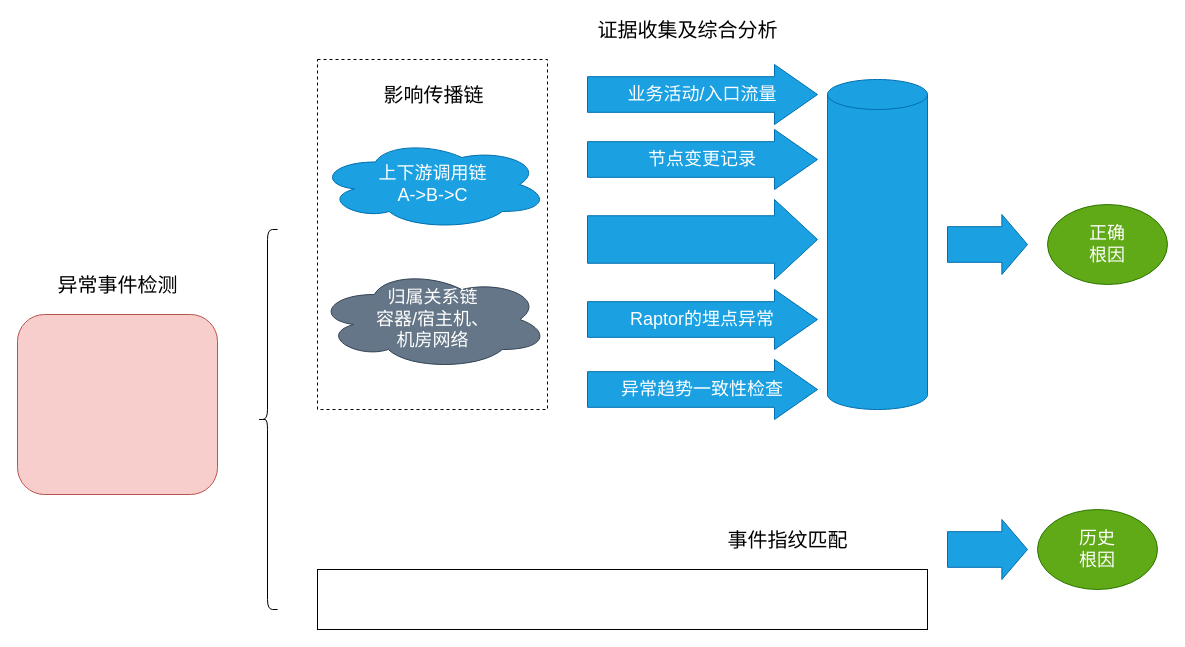
Image size: 1185x647. Some labels were removed from this diagram. The centre of each missing label's shape, as x and y in pixels:
业务波动（QPM） 饱和度指标... 耗时波动 错误 ...: (117,404)
历史事件库: (622,599)
时序 图数据: (877,244)
节点超阈值 告警、错误日志、慢查询: (702,239)
